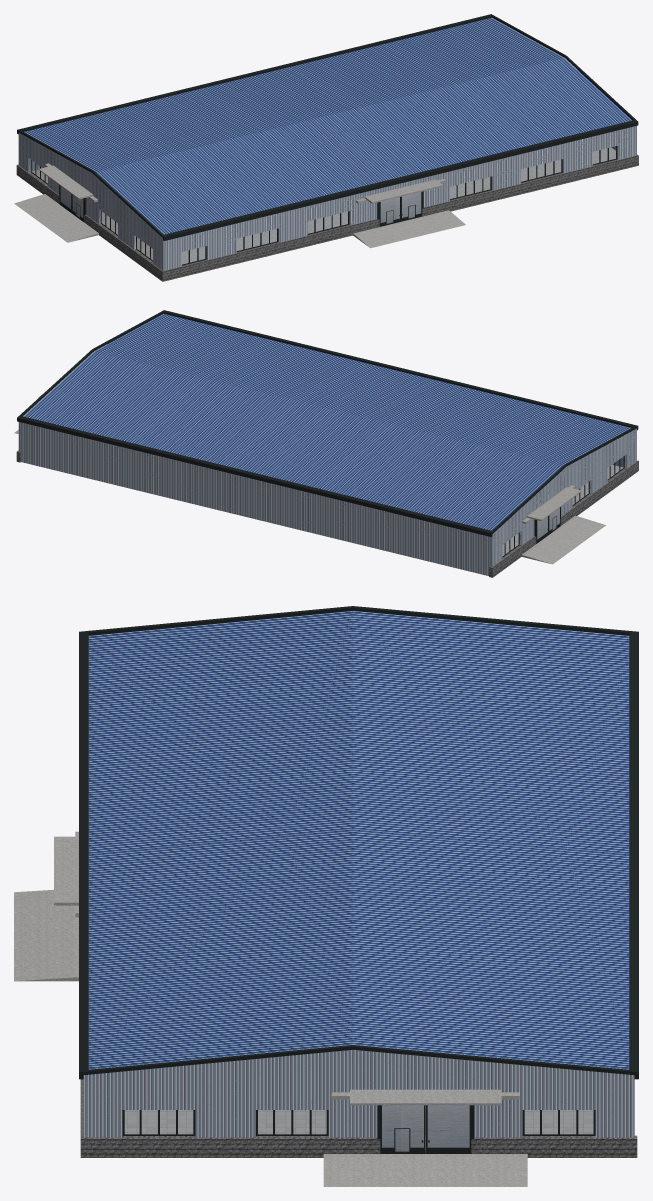
File: changfanglan2.fbx
3 views of the same model, one above another, from view 1: azimuth 30°, elevation 25°; view 2: azimuth 150°, elevation 25°; view 3: azimuth 270°, elevation 25° (orthographic). The views are drawn at different scales.
Parts seen in each view (by area): view 1: 对象033, 对象029, 对象035, 对象028, 对象031, 对象025, 对象032, 对象030, 对象020, 对象022, 对象027, 对象034 (+4 smaller); view 2: 对象033, 对象029, 对象035, 对象028, 对象031, 对象032, 对象030, 对象025, 对象022, 对象027; view 3: 对象029, 对象033, 对象028, 对象034, 对象032, 对象020, 对象031, 对象023, 对象018, 对象021, 对象030.
Boxes of the visible parts, x1,y1,x2,y2 form: 对象033: (257,18,632,177); 对象029: (24,75,396,234); 对象035: (18,133,399,270); 对象028: (400,17,636,207); 对象031: (17,72,401,265); 对象025: (16,164,379,281); 对象032: (255,14,638,221); 对象030: (14,163,417,248); 对象020: (422,146,638,216); 对象022: (32,170,347,264); 对象027: (32,161,347,264); 对象034: (400,179,465,236); 对象033: (24,313,398,473); 对象029: (258,371,631,530); 对象035: (255,428,636,575); 对象028: (18,344,255,518); 对象031: (254,368,638,557); 对象032: (17,310,400,478); 对象030: (521,485,605,564); 对象025: (489,459,638,577); 对象022: (502,465,623,556); 对象027: (502,456,623,555); 对象029: (88,611,629,854); 对象033: (88,829,629,1069); 对象028: (83,1049,634,1137); 对象034: (14,869,527,1186); 对象032: (79,851,638,1153); 对象020: (80,1079,637,1157); 对象031: (79,606,638,851); 对象023: (124,1105,593,1149); 对象018: (125,1110,593,1133); 对象021: (382,1105,469,1151); 对象030: (14,831,78,936).
Size of the model in its own units: 97.56 by 10.04 by 51.49.
Materials: 8 (6 with a texture image).
